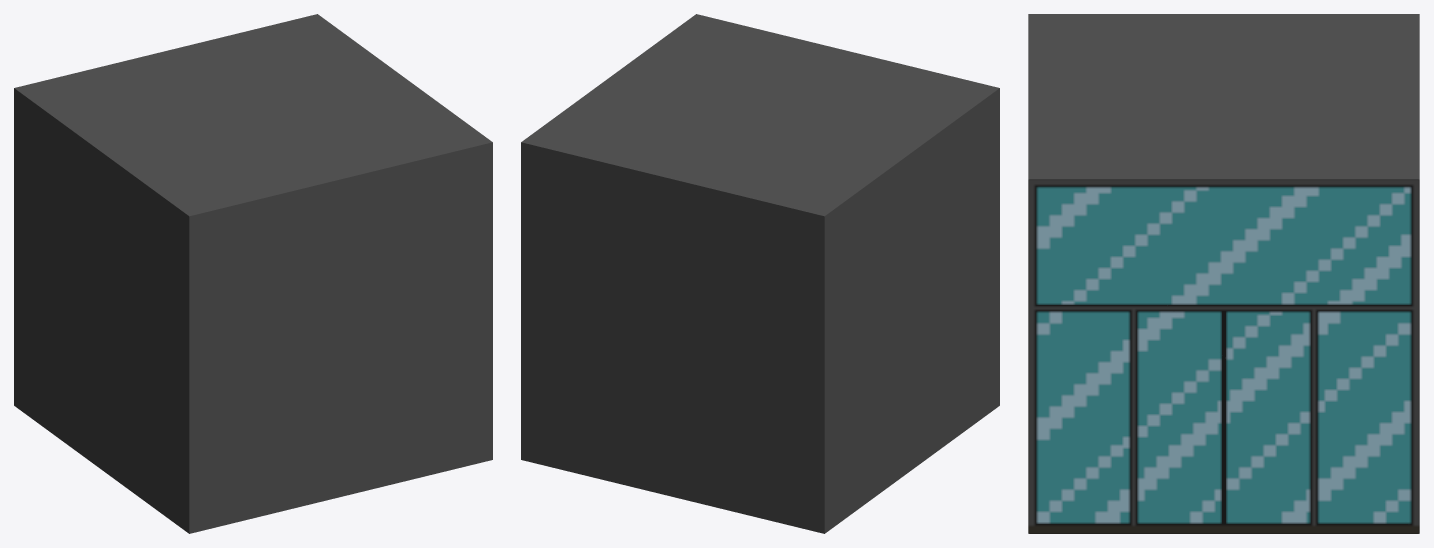
Rendered from GlassBuildingV128x128_Ground02.fbx.
3 renders of one model, left to right at view 1: azimuth 30°, elevation 25°; view 2: azimuth 150°, elevation 25°; view 3: azimuth 270°, elevation 25°, orthographic. The views are drawn at different scales.
Visible parts, largest first — view 1: Ground02; view 2: Ground02; view 3: Ground02.
Part boxes in pixels (box(x1,y1,x2,y2)): Ground02: box(14, 14, 492, 533); Ground02: box(521, 14, 999, 533); Ground02: box(1028, 14, 1419, 533).
Size of the model in its own units: 100 by 100 by 100.
1 material, 1 textured.
